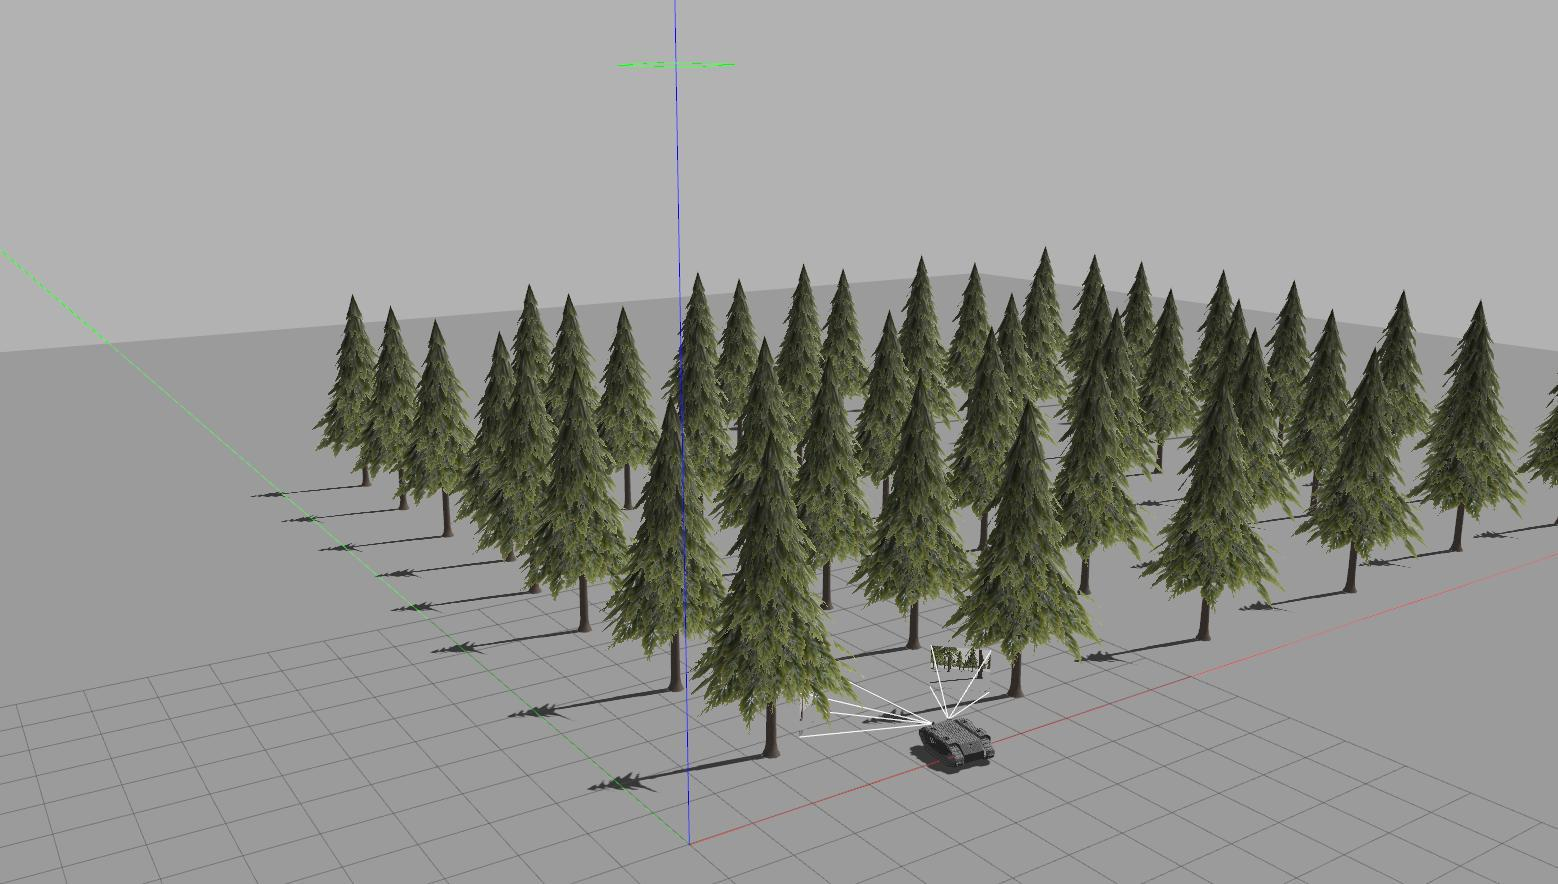tree_gazebo: (693, 438, 852, 758), (946, 401, 1096, 696), (1296, 295, 1427, 593), (606, 398, 724, 689), (1144, 386, 1278, 638), (852, 378, 971, 646), (1296, 350, 1421, 592), (1412, 301, 1525, 549), (526, 378, 627, 632), (1053, 356, 1147, 592), (794, 360, 873, 607), (949, 332, 1020, 549), (715, 340, 794, 527), (404, 322, 472, 538), (1284, 310, 1351, 509), (596, 307, 657, 506), (360, 307, 417, 509), (1233, 332, 1296, 508), (855, 314, 910, 506), (1141, 292, 1196, 470), (317, 295, 375, 454), (901, 259, 956, 423), (776, 264, 822, 452), (1266, 283, 1309, 440), (1023, 246, 1065, 397), (715, 280, 758, 418), (822, 271, 867, 396), (1190, 271, 1233, 401), (946, 264, 989, 391), (511, 286, 551, 391), (998, 295, 1035, 409), (1208, 301, 1248, 397), (1122, 264, 1157, 376)
